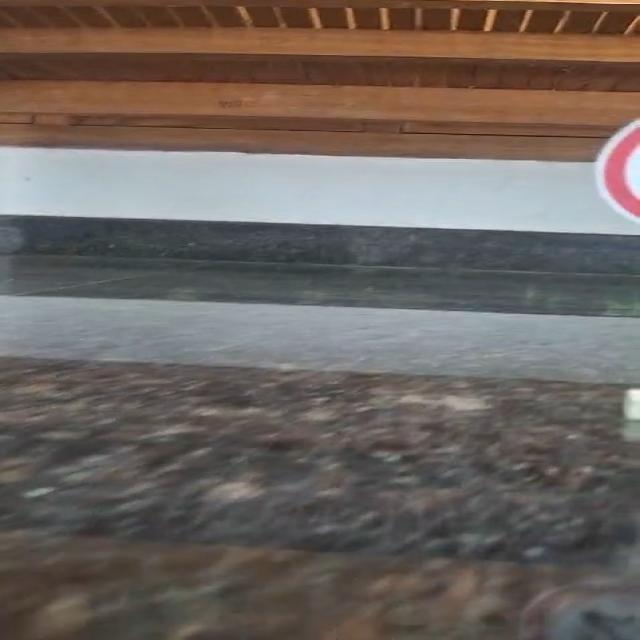Reject: (591, 105, 640, 238)
